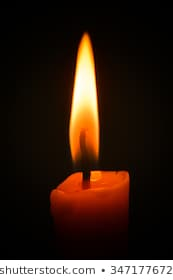Fire: (70, 29, 103, 174)
